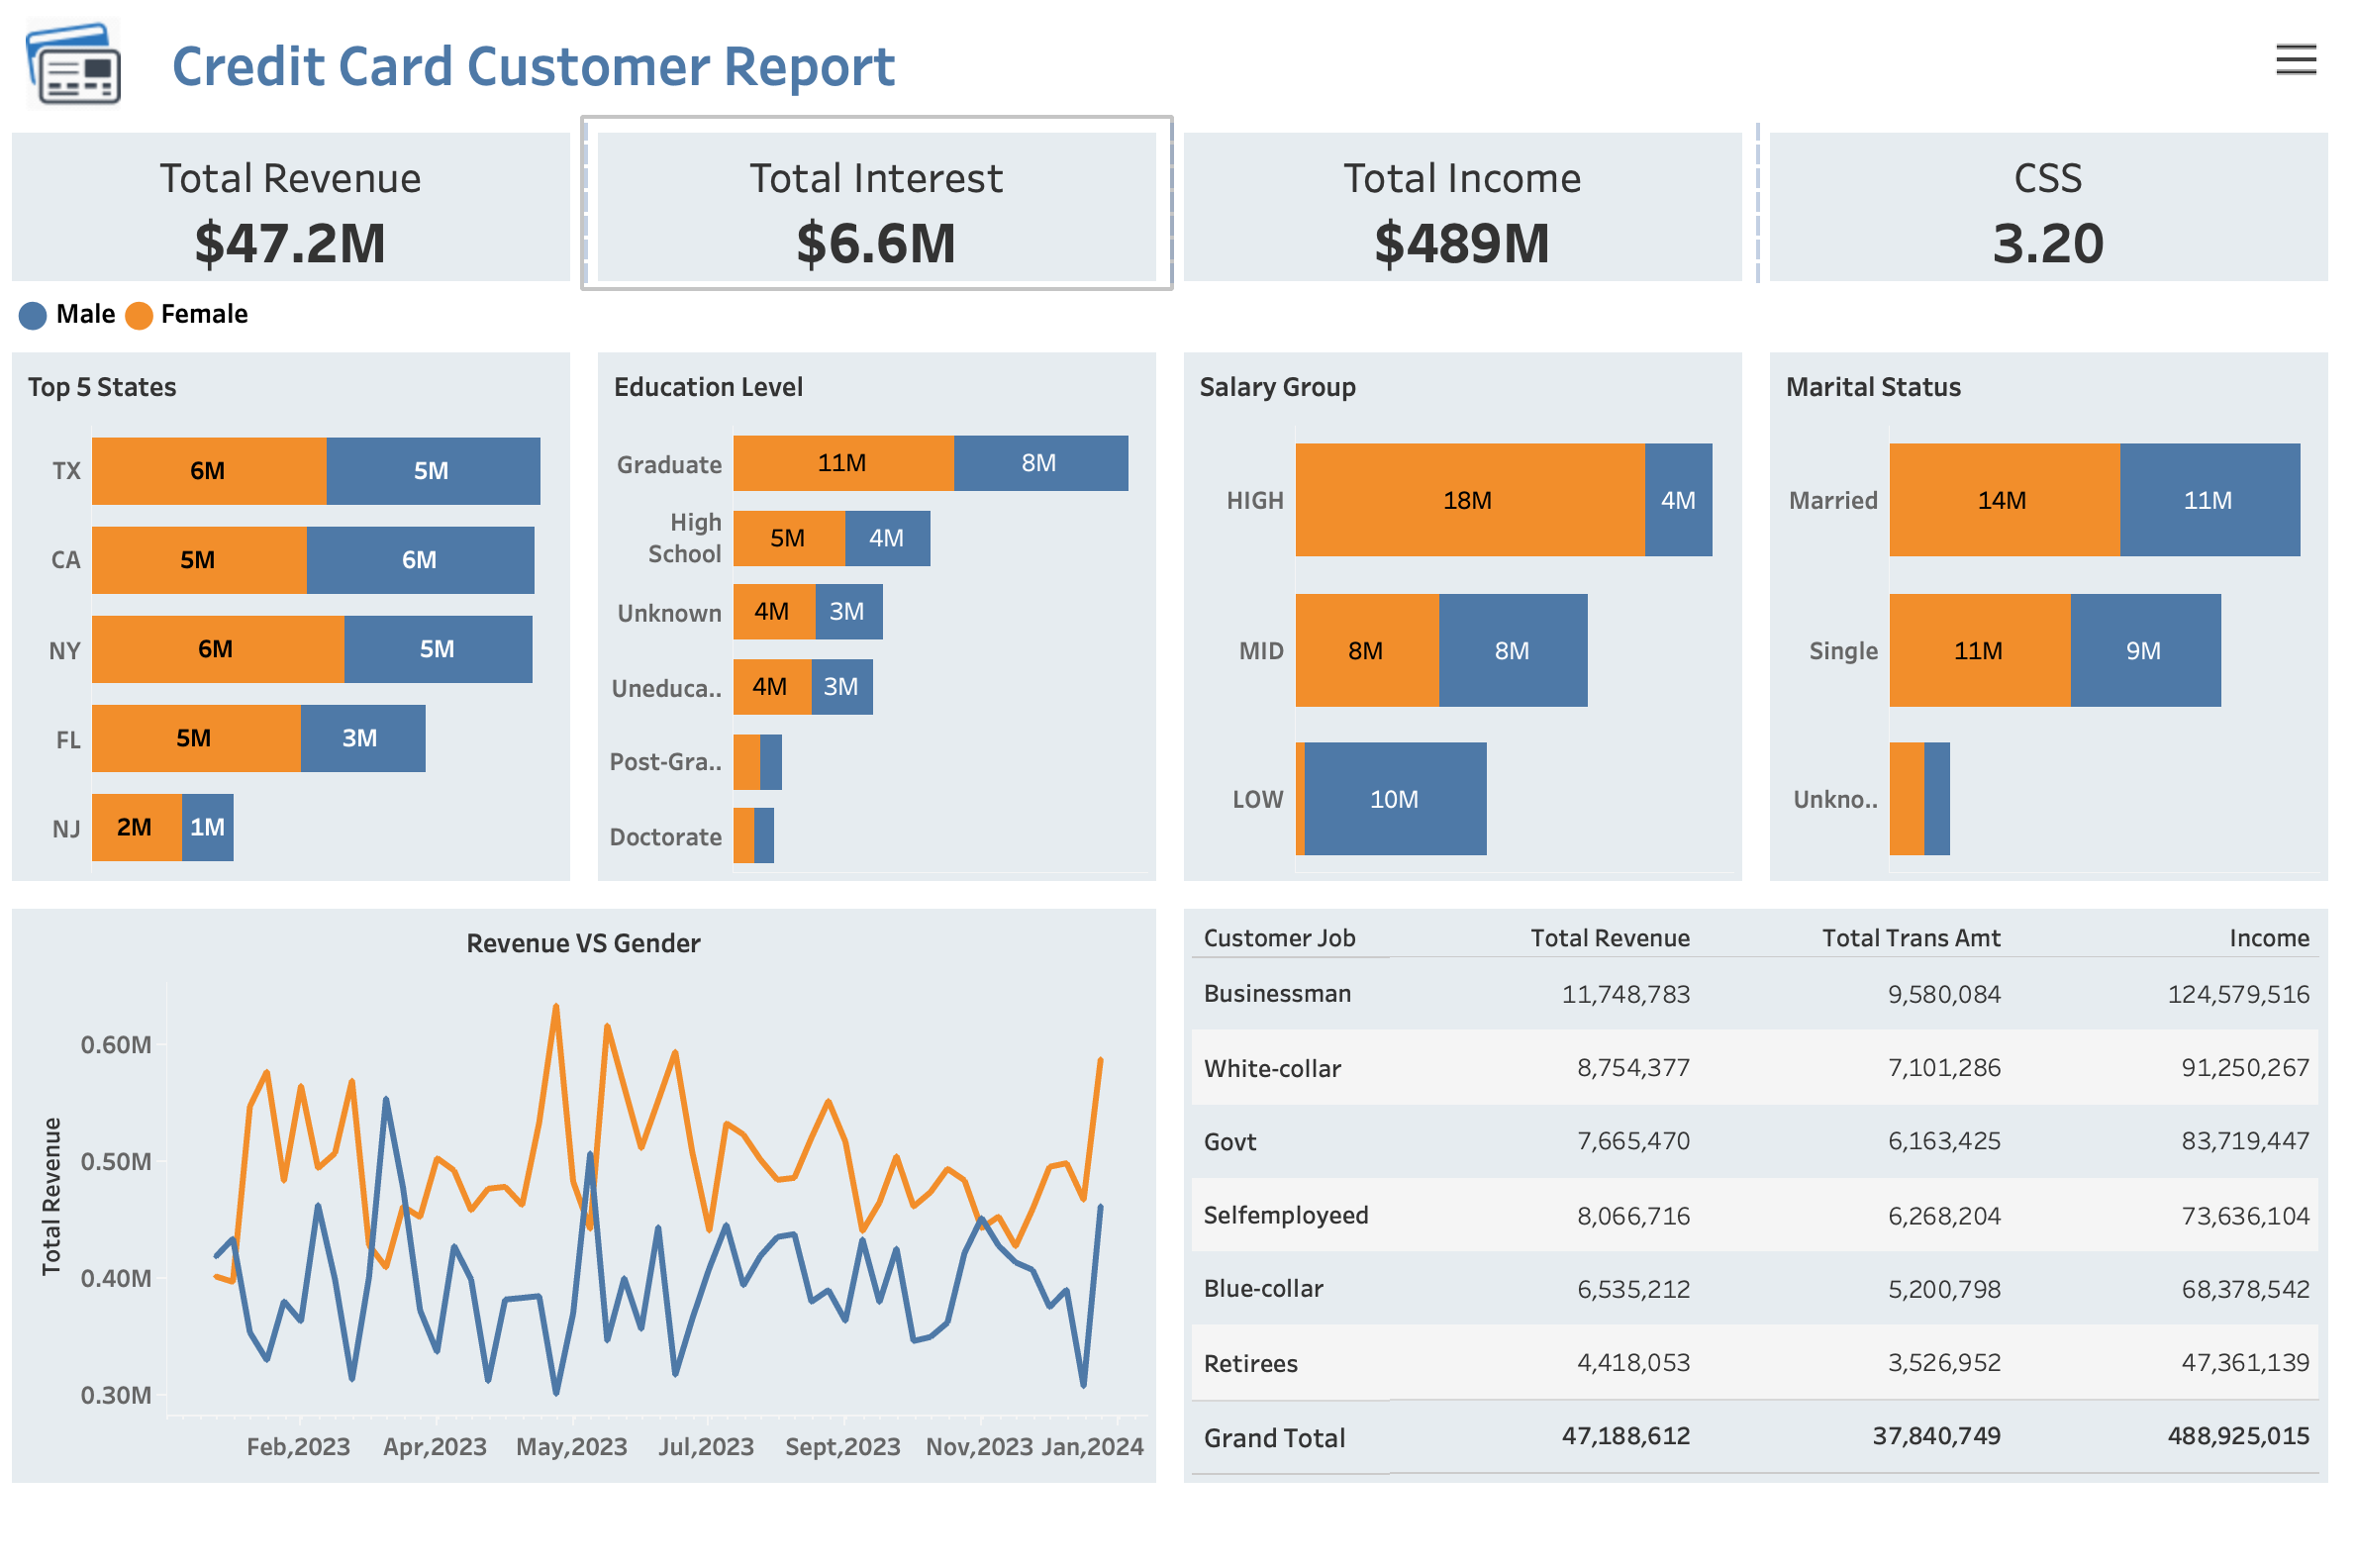

This screenshot's page, from the dashboard's own definition file:
{"tool":"tableau","page":{"name":"Credit Card Customer Report","canvas":[1200,800],"ordinal":0},"visuals":[{"type":"image","param":"Image/credit-card-icon-png-4421.png","box":[8,8,77,56]},{"type":"text","box":[85,8,1075,56]},{"type":"dashboard-object","box":[1158,22,22,24]},{"type":"blank","box":[909.2,26,138.5,51]},{"type":"worksheet","title":"Total Revenue","mark":"Automatic","box":[8,64,296,85]},{"type":"worksheet","title":"Total Interest","mark":"Automatic","box":[304,64,296,85]},{"type":"worksheet","title":"Total Income","mark":"Automatic","box":[600,64,296,85]},{"type":"worksheet","title":"CSS","mark":"Automatic","box":[896,64,296,85]},{"type":"text","box":[909.2,77,138.5,36]},{"type":"blank","box":[909.2,113,138.5,36]},{"type":"text","box":[8,149,1184,26]},{"type":"filter","title":"CSS","param":"[federated.0793pp11b3wpdm12zqfy71rckgfd].[none:Calculation_914019673268592640:nk","box":[909.2,149,138.5,89]},{"type":"worksheet","title":"Top 5 States","mark":"Automatic","rows":["state_cd"],"cols":["Calculation_914019673271562241"],"box":[8,175,296,281]},{"type":"worksheet","title":"Education Level","mark":"Automatic","rows":["Education_Level"],"cols":["Calculation_914019673271562241"],"box":[304,175,296,281]},{"type":"worksheet","title":"Salary Group","mark":"Automatic","rows":["Calculation_914019673268592640"],"cols":["Calculation_914019673271562241"],"box":[600,175,296,281]},{"type":"worksheet","title":"Marital Status","mark":"Automatic","rows":["Marital_Status"],"cols":["Calculation_914019673271562241"],"box":[896,175,296,281]},{"type":"blank","box":[909.2,238,138.5,35]},{"type":"filter","title":"CSS","param":"[federated.0793pp11b3wpdm12zqfy71rckgfd].[none:Week_Start_Date:qk]","box":[909.2,273,138.5,69]},{"type":"blank","box":[909.2,342,138.5,32]},{"type":"filter","title":"CSS","param":"[federated.0793pp11b3wpdm12zqfy71rckgfd].[none:Gender:nk]","box":[909.2,374,138.5,70]},{"type":"blank","box":[909.2,444,138.5,32]},{"type":"worksheet","title":"Revenue VS Gender","mark":"Automatic","rows":["Calculation_914019673271562241"],"cols":["Week_Start_Date"],"box":[8,456,592,304]},{"type":"worksheet","title":"Table Chart","mark":"Automatic","rows":["Customer_Job"],"box":[600,456,592,304]},{"type":"filter","title":"CSS","param":"[federated.0793pp11b3wpdm12zqfy71rckgfd].[none:Qtr:nk]","box":[909.2,476,138.5,108]},{"type":"blank","box":[909.2,584,138.5,34]},{"type":"filter","title":"CSS","param":"[federated.0793pp11b3wpdm12zqfy71rckgfd].[none:Card_Category:nk]","box":[909.2,618,138.5,108]}]}

Visuals, with their boxes in screenshot pixels (x1, y1, x2, y2), scaled from the page's 1200x800 canvas onto the 2356x1568 screenshot:
image: (16, 16, 167, 126)
text: (167, 16, 2278, 126)
dashboard-object: (2274, 44, 2316, 90)
blank: (1785, 50, 2057, 150)
"Total Revenue" worksheet: (16, 126, 597, 292)
"Total Interest" worksheet: (597, 126, 1178, 292)
"Total Income" worksheet: (1178, 126, 1759, 292)
"CSS" worksheet: (1759, 126, 2340, 292)
text: (1785, 150, 2057, 222)
blank: (1785, 222, 2057, 292)
text: (16, 292, 2340, 343)
"CSS" filter: (1785, 292, 2057, 466)
"Top 5 States" worksheet: (16, 343, 597, 894)
"Education Level" worksheet: (597, 343, 1178, 894)
"Salary Group" worksheet: (1178, 343, 1759, 894)
"Marital Status" worksheet: (1759, 343, 2340, 894)
blank: (1785, 466, 2057, 536)
"CSS" filter: (1785, 536, 2057, 670)
blank: (1785, 670, 2057, 734)
"CSS" filter: (1785, 734, 2057, 870)
blank: (1785, 870, 2057, 932)
"Revenue VS Gender" worksheet: (16, 894, 1178, 1490)
"Table Chart" worksheet: (1178, 894, 2340, 1490)
"CSS" filter: (1785, 932, 2057, 1144)
blank: (1785, 1144, 2057, 1212)
"CSS" filter: (1785, 1212, 2057, 1422)
